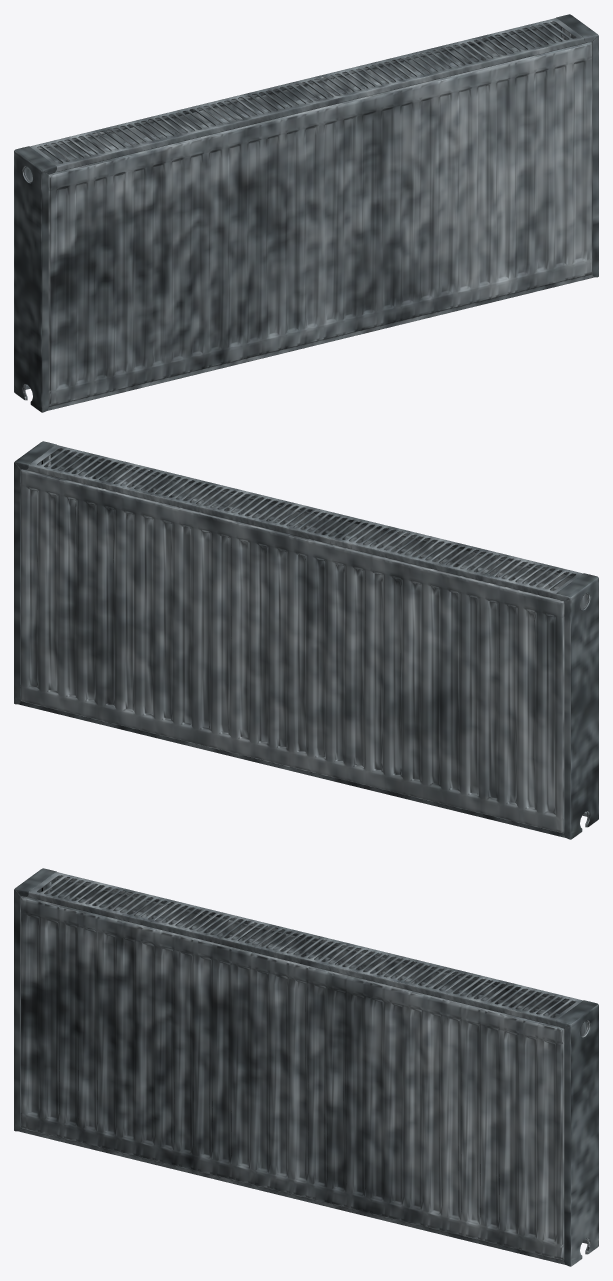
The model's file is studyroom_52.obj.
The picture shows the model from 3 angles, top to bottom: view 1: azimuth 30°, elevation 25°; view 2: azimuth 150°, elevation 25°; view 3: azimuth 330°, elevation 25°; orthographic projection.
Size of the model in its own units: 1.38 by 0.5754 by 0.129.
